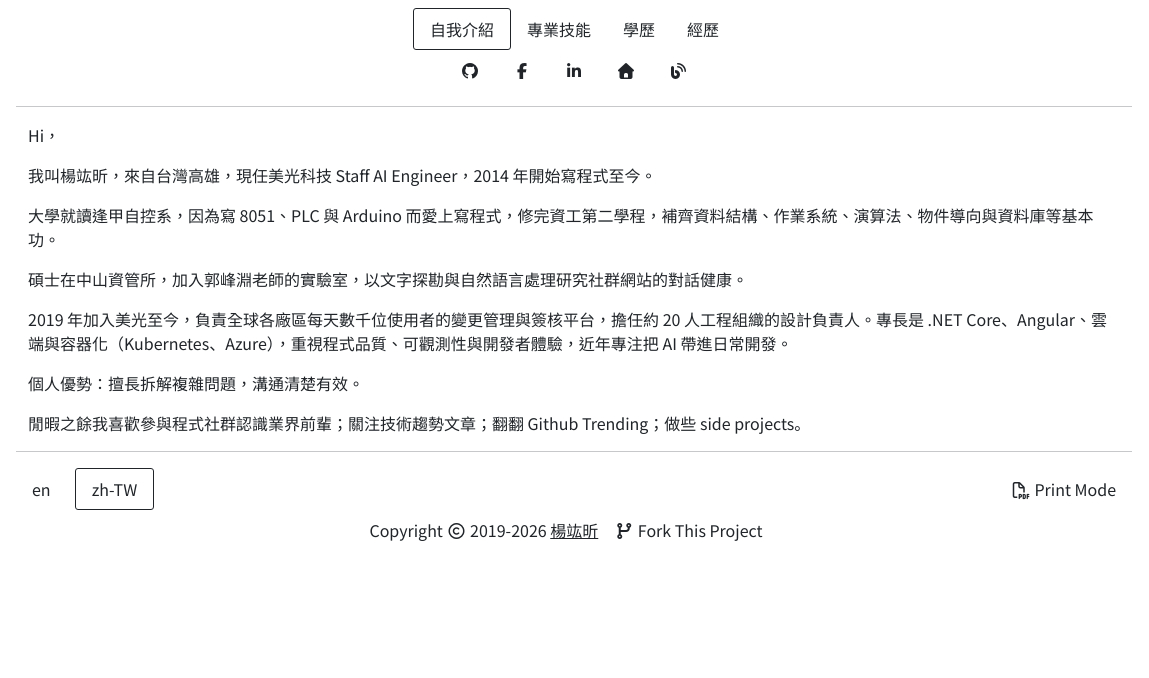
Test: App › switches language
Click the button "en" at (41,489), box [16,469,67,509]
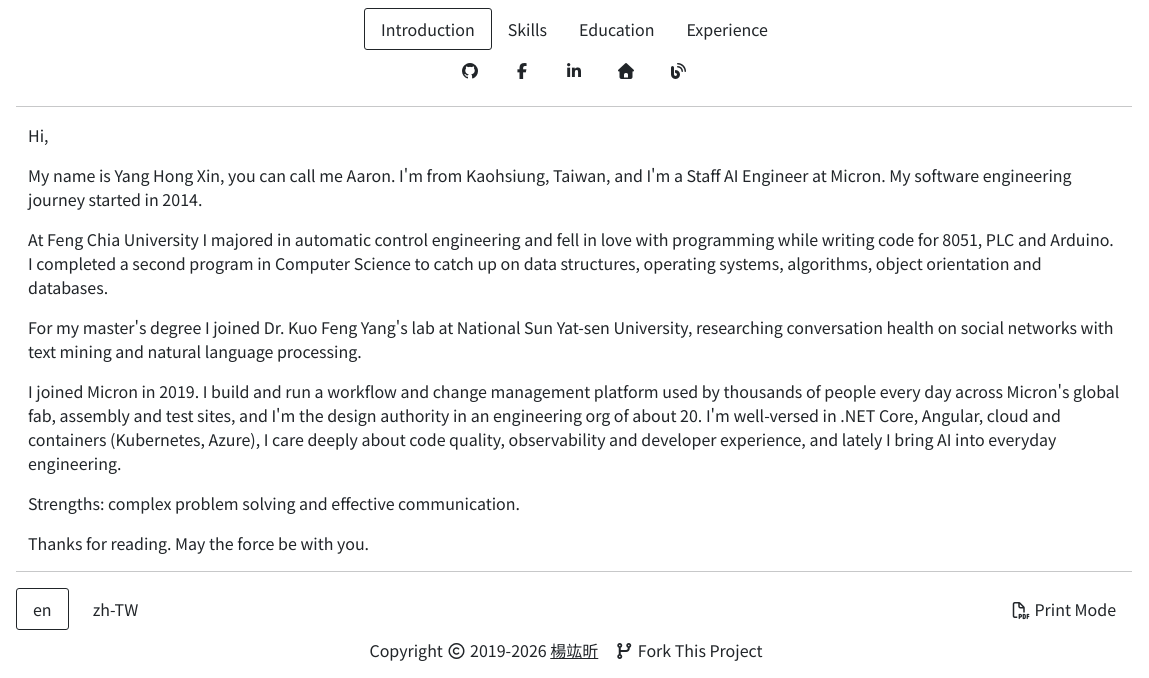
Now the text "My name is Yang Hong Xin, you can call me Aaron. I'm from Kaohsiung, Taiwan, and I'm a Staff AI Engineer at Micron. My software engineering journey started in 2" is shown, box [28,163,1072,211]
